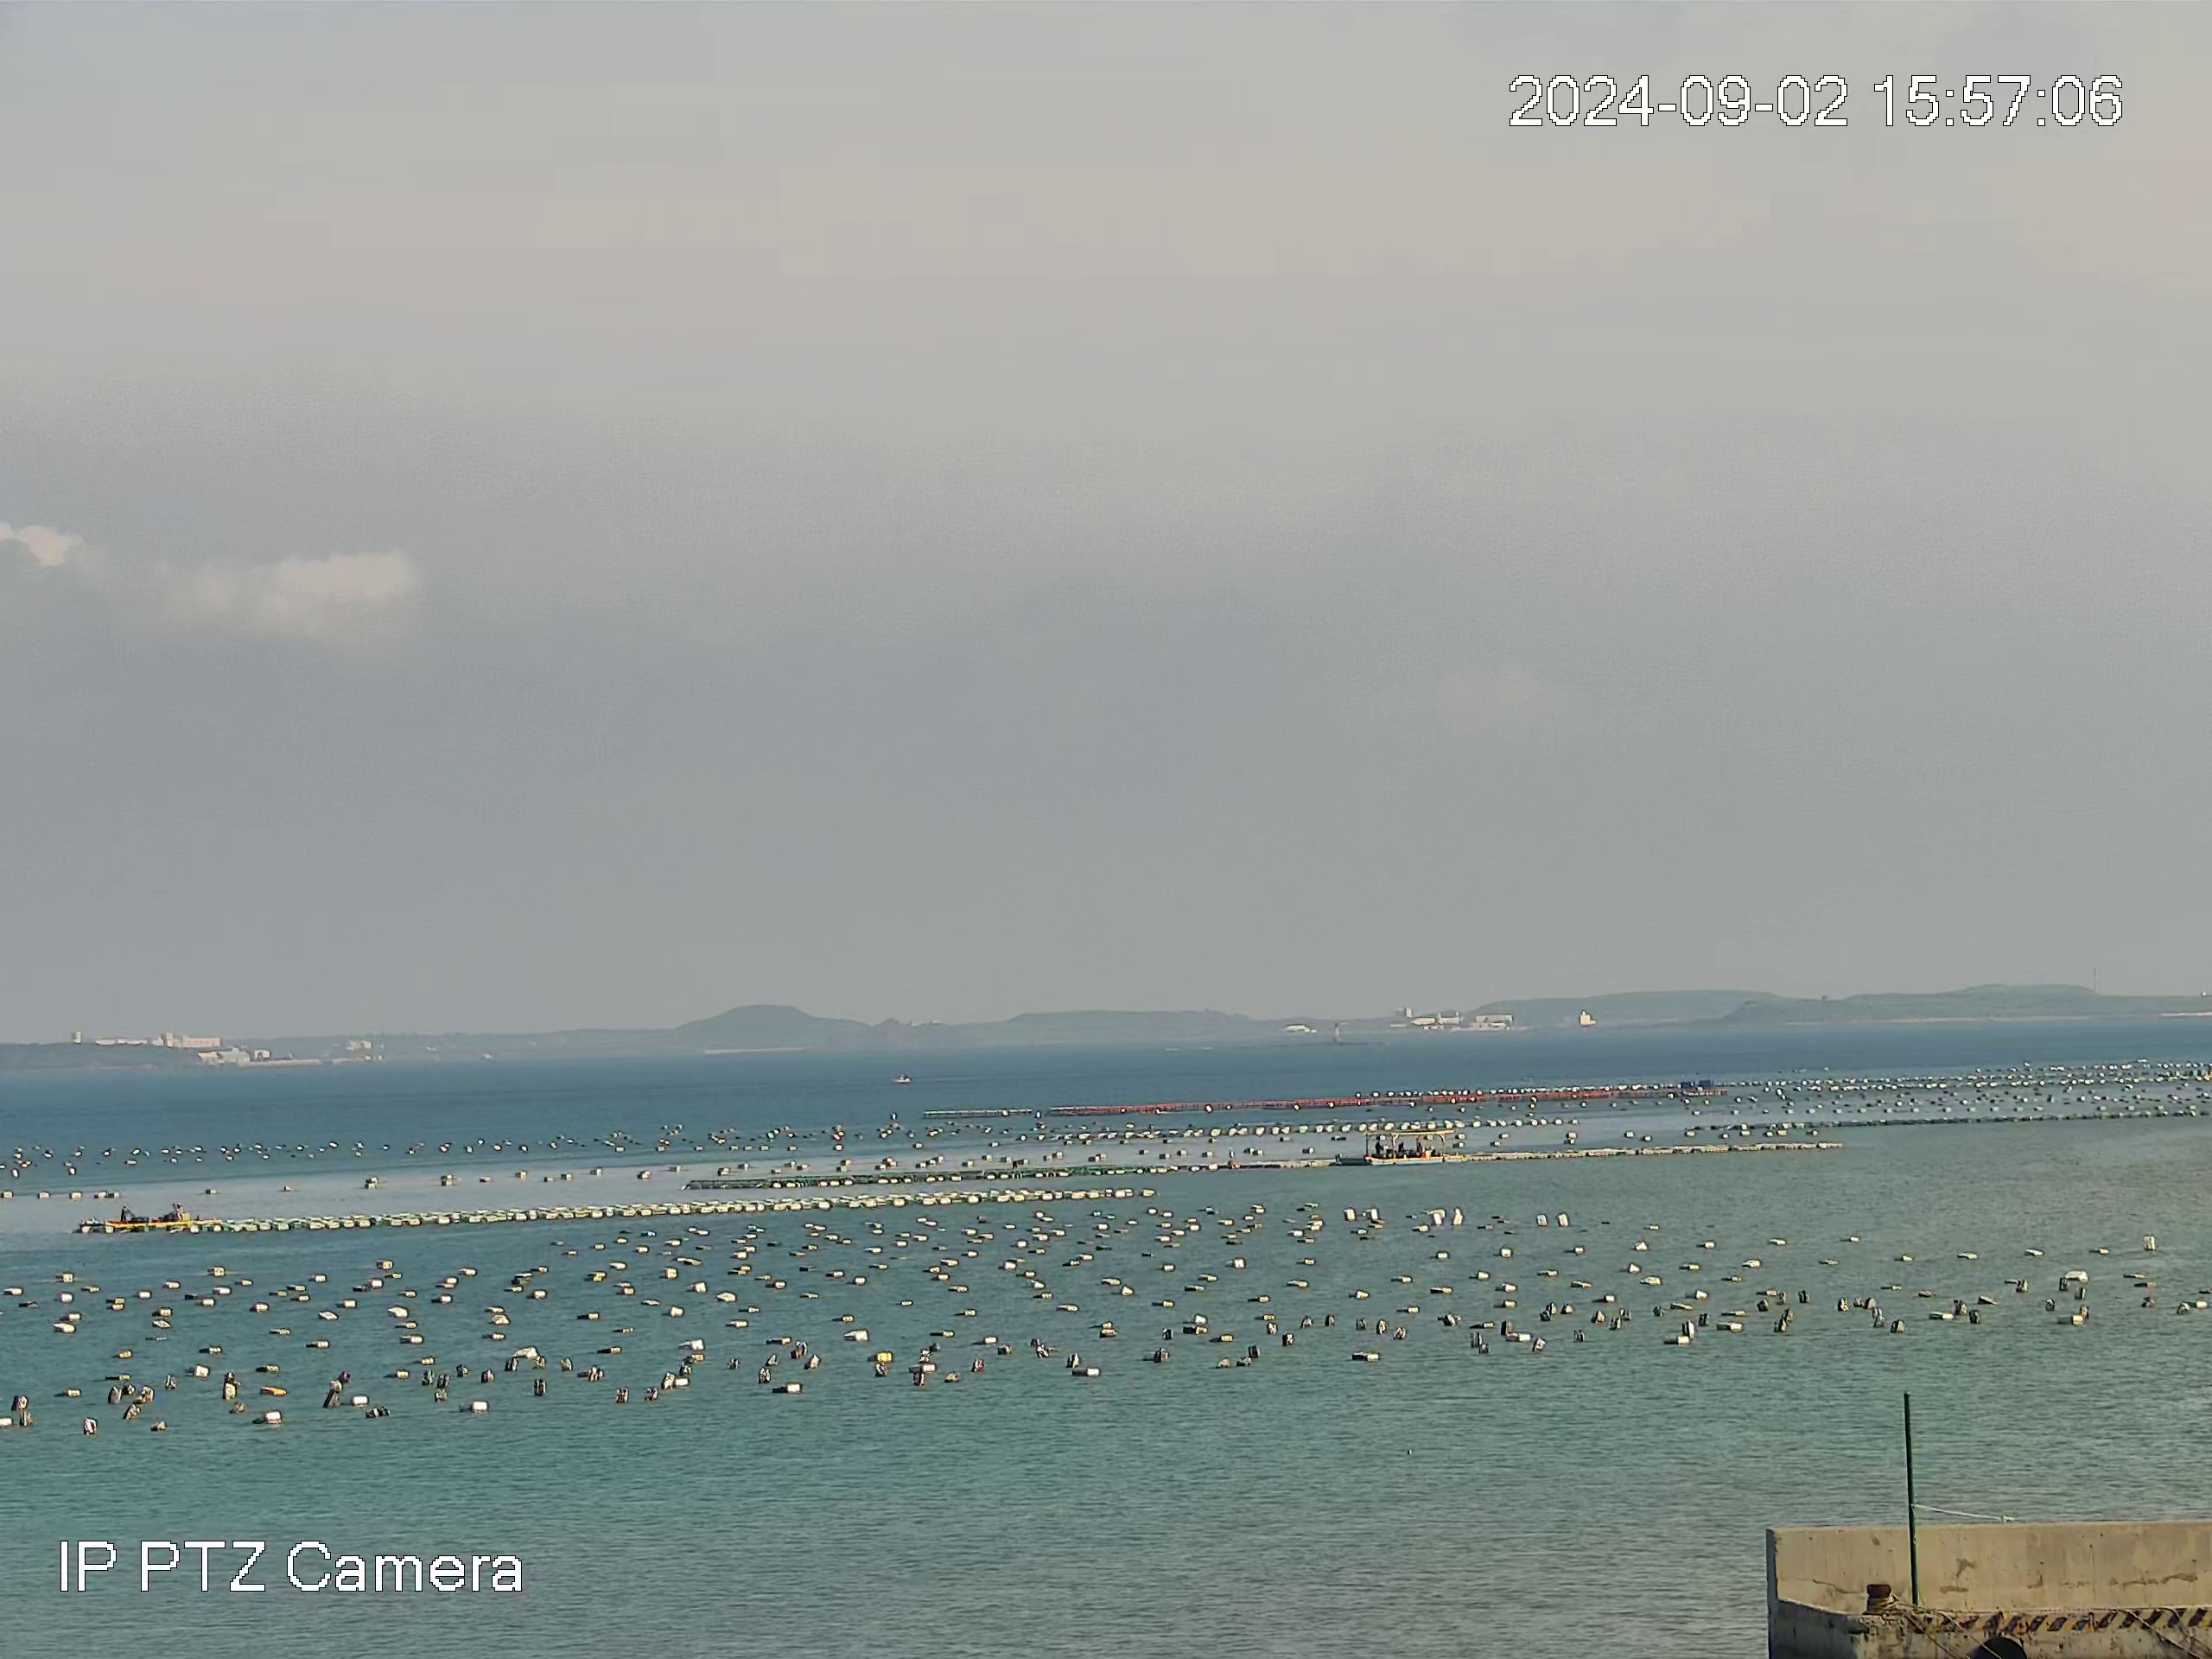boat: (1362, 1127, 1467, 1168), (103, 1202, 225, 1227), (892, 1072, 913, 1087)
